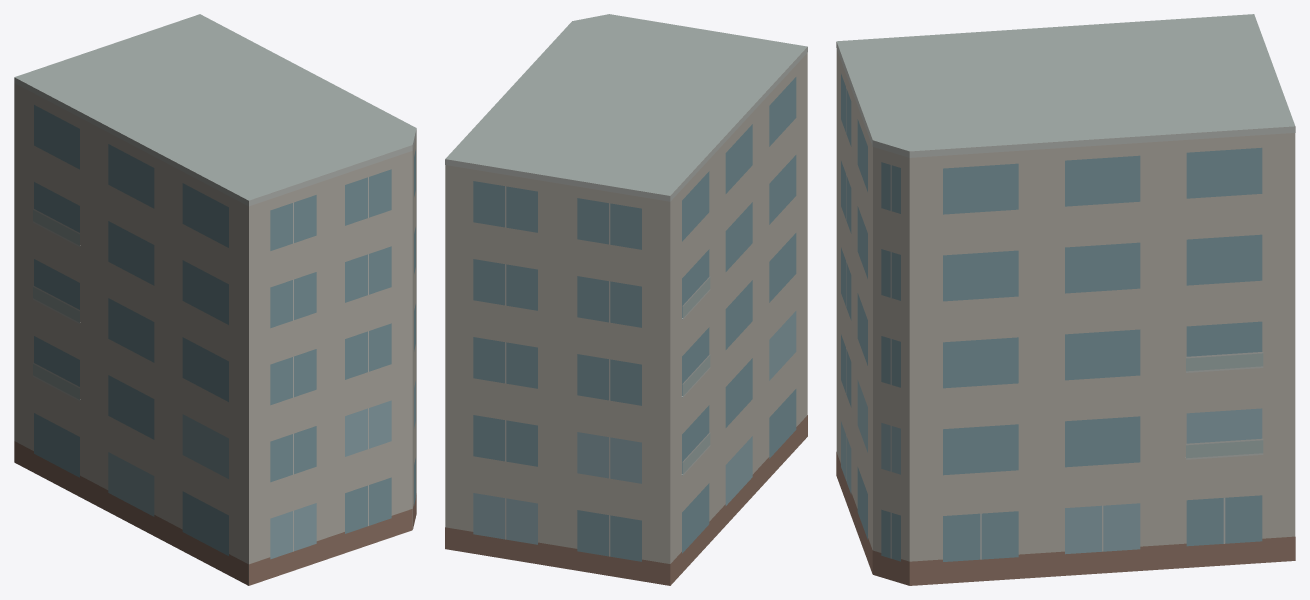
File: survey-upis-32523892.glb
The picture shows the model from 3 angles, left to right: view 1: azimuth 30°, elevation 25°; view 2: azimuth 150°, elevation 25°; view 3: azimuth 270°, elevation 25°; orthographic projection. The views are drawn at different scales.
Parts seen in each view (by area): view 1: survey-upis-32523892.tmp; view 2: survey-upis-32523892.tmp; view 3: survey-upis-32523892.tmp.
Boxes of the visible parts, x1=… form: survey-upis-32523892.tmp: x1=14, y1=14, x2=416, y2=585; survey-upis-32523892.tmp: x1=445, y1=14, x2=807, y2=585; survey-upis-32523892.tmp: x1=836, y1=14, x2=1295, y2=585.
Bounding box in the file's own units: 11.07 × 16.3 × 15.62.
